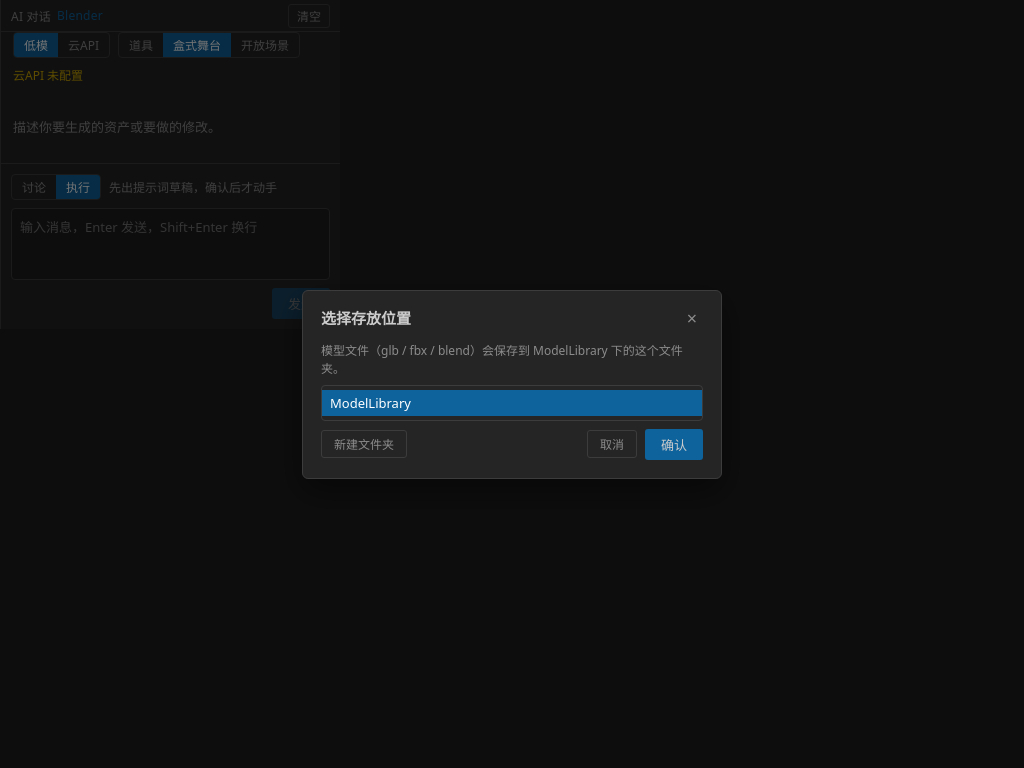
Scenario: ChatPanel › shows pending dots as soon as the folder picker is confirmed
The width and height of the screenshot is (1024, 768).
Step 1. Click the button "确认" → [674, 444], box x1=645 y1=428 x2=703 y2=460
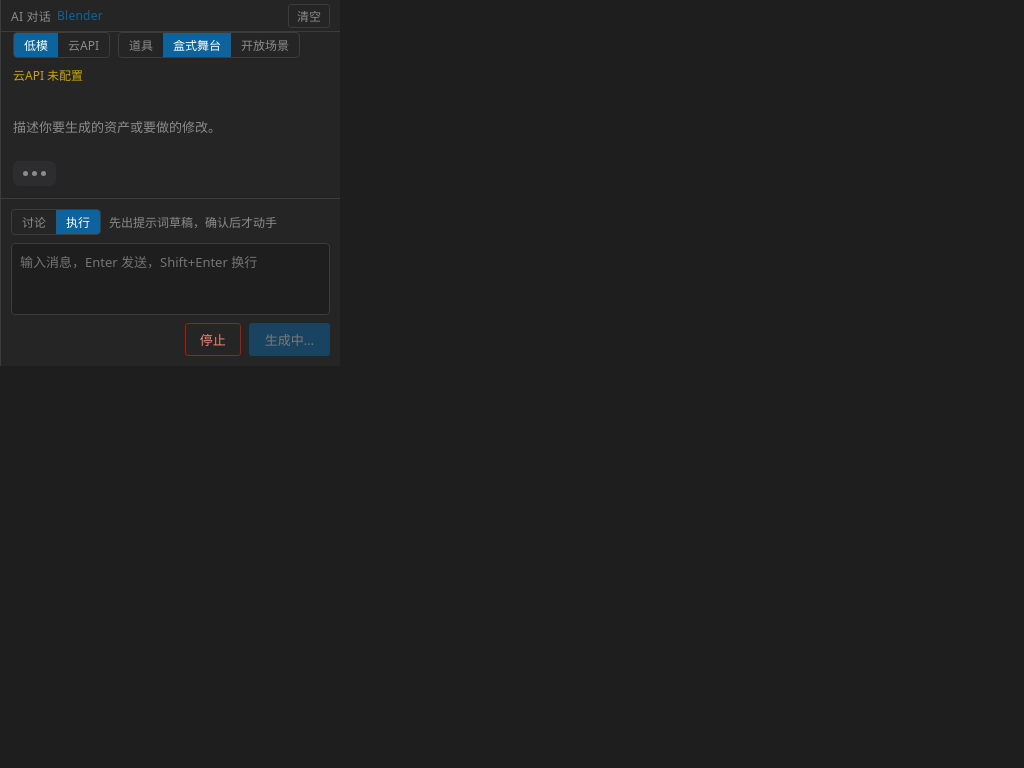
Expected: the element with class "bubble" is shown, x1=13 y1=161 x2=56 y2=186
